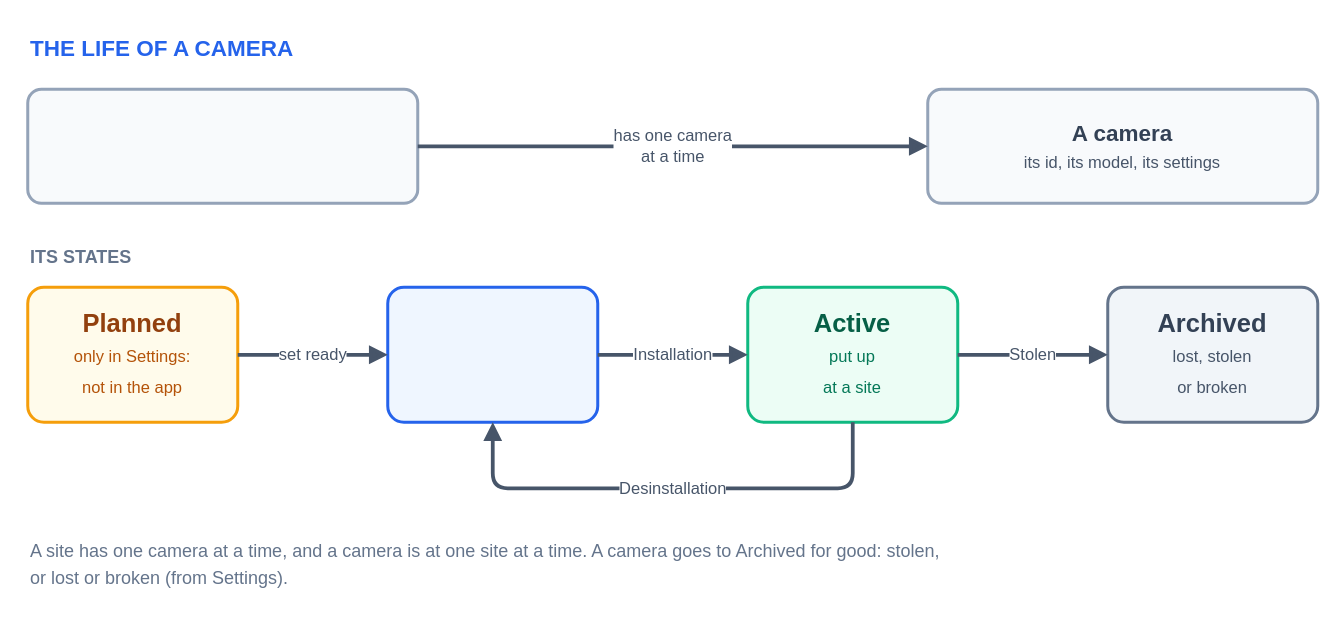
Image size: 1344x621. Some labels were removed from this diagram. Here are the shapes that lost their labels. From the top down, the box of each, then its label:
(26, 87, 418, 204): A site where the camera is put up
(386, 285, 598, 423): Ready available, not in the field
